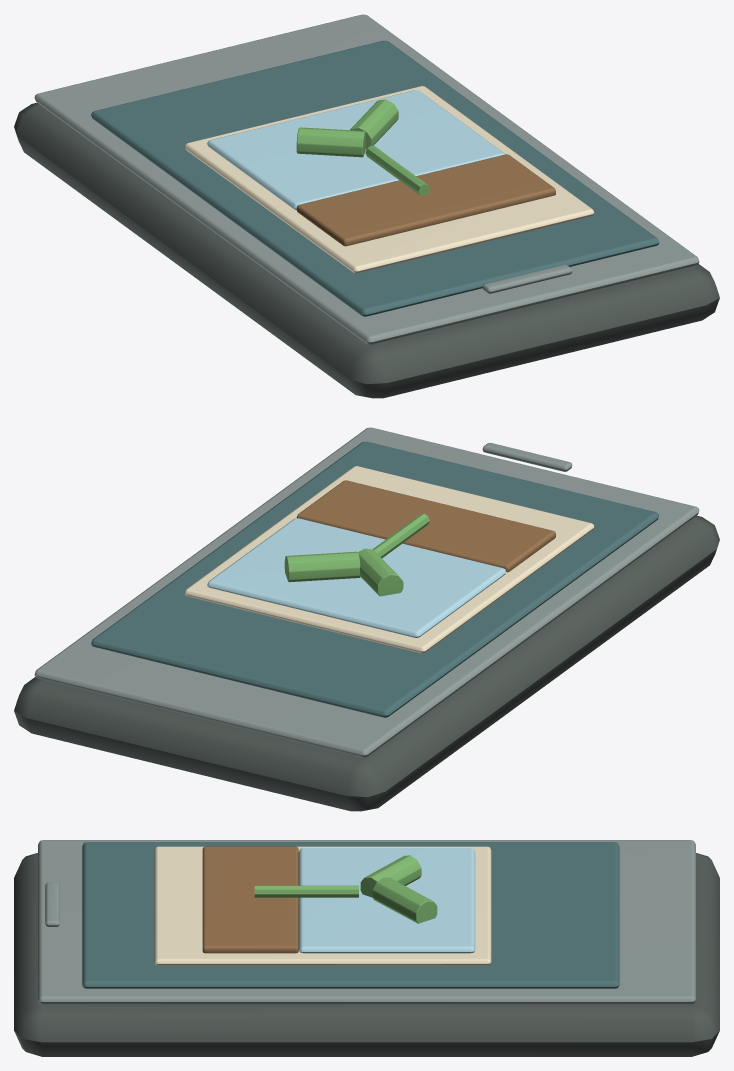
The model's file is CameraPhone.glb.
3 views of the same model, one above another, from view 1: azimuth 30°, elevation 25°; view 2: azimuth 150°, elevation 25°; view 3: azimuth 270°, elevation 25° (orthographic). The views are drawn at different scales.
Visible parts, largest first — view 1: CameraPhone_Body, CameraPhone_Screen, CameraPhone_Edge_Highlight, CameraPhone_Photo_Sky, CameraPhone_Photo_Frame, CameraPhone_Photo_Soil, CameraPhone_Photo_Leaf_L, CameraPhone_Photo_Leaf_R, CameraPhone_Button, CameraPhone_Photo_Stem; view 2: CameraPhone_Screen, CameraPhone_Body, CameraPhone_Edge_Highlight, CameraPhone_Photo_Sky, CameraPhone_Photo_Frame, CameraPhone_Photo_Soil, CameraPhone_Photo_Leaf_R, CameraPhone_Photo_Leaf_L, CameraPhone_Button, CameraPhone_Photo_Stem; view 3: CameraPhone_Body, CameraPhone_Screen, CameraPhone_Edge_Highlight, CameraPhone_Photo_Sky, CameraPhone_Photo_Frame, CameraPhone_Photo_Soil, CameraPhone_Photo_Leaf_R, CameraPhone_Photo_Stem, CameraPhone_Photo_Leaf_L, CameraPhone_Button.
Part boxes in pixels (box(x1,y1,x2,y2)): CameraPhone_Body: box(14, 103, 719, 398); CameraPhone_Screen: box(91, 40, 659, 316); CameraPhone_Edge_Highlight: box(34, 14, 699, 344); CameraPhone_Photo_Sky: box(207, 90, 504, 209); CameraPhone_Photo_Frame: box(184, 86, 594, 273); CameraPhone_Photo_Soil: box(296, 154, 555, 246); CameraPhone_Photo_Leaf_L: box(296, 127, 365, 157); CameraPhone_Photo_Leaf_R: box(350, 99, 398, 149); CameraPhone_Button: box(482, 264, 572, 293); CameraPhone_Photo_Stem: box(365, 145, 429, 195); CameraPhone_Screen: box(91, 441, 658, 717); CameraPhone_Body: box(14, 516, 719, 811); CameraPhone_Edge_Highlight: box(34, 427, 699, 757); CameraPhone_Photo_Sky: box(207, 518, 506, 637); CameraPhone_Photo_Frame: box(184, 466, 594, 653); CameraPhone_Photo_Soil: box(296, 480, 555, 572); CameraPhone_Photo_Leaf_R: box(284, 551, 360, 582); CameraPhone_Photo_Leaf_L: box(357, 548, 403, 596); CameraPhone_Button: box(482, 442, 572, 471); CameraPhone_Photo_Stem: box(372, 513, 429, 558); CameraPhone_Body: box(14, 853, 719, 1056); CameraPhone_Screen: box(82, 842, 619, 988); CameraPhone_Edge_Highlight: box(38, 840, 695, 1004); CameraPhone_Photo_Sky: box(298, 848, 475, 953); CameraPhone_Photo_Frame: box(154, 846, 491, 965); CameraPhone_Photo_Soil: box(202, 846, 298, 953); CameraPhone_Photo_Leaf_R: box(372, 877, 437, 923); CameraPhone_Photo_Stem: box(254, 885, 358, 897); CameraPhone_Photo_Leaf_L: box(360, 855, 421, 897); CameraPhone_Button: box(45, 882, 59, 926).
Bounding box in the file's own units: 0.52 × 0.1407 × 0.88.
